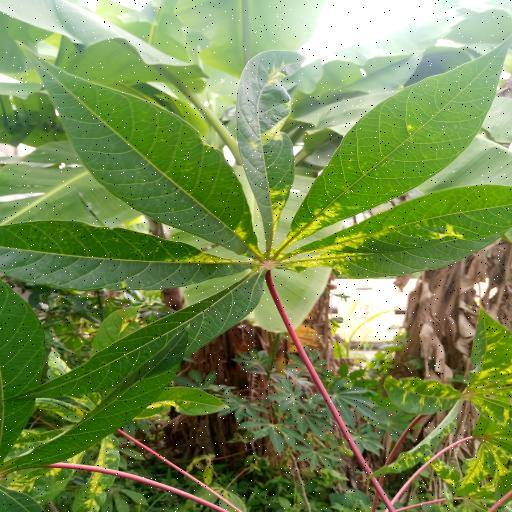Cassava_Mosaic: (0, 37, 512, 409)
